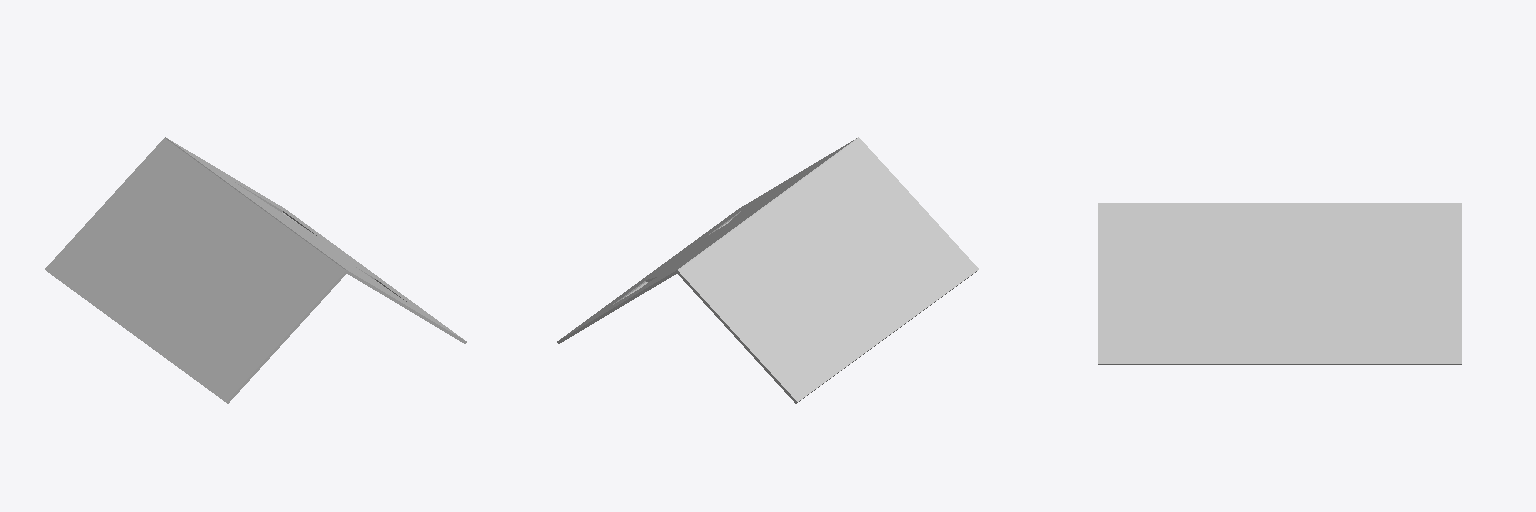
File: techo.OBJ
3 views of the same model, side by side, from view 1: azimuth 30°, elevation 25°; view 2: azimuth 150°, elevation 25°; view 3: azimuth 270°, elevation 25° (orthographic).
Parts seen in each view (by area): view 1: pCube116; view 2: pCube116; view 3: pCube116.
Part boxes in pixels (left/top/right/bottom): pCube116: left=45, top=137, right=466, bottom=403; pCube116: left=557, top=137, right=978, bottom=403; pCube116: left=1098, top=203, right=1461, bottom=364.
Bounding box in the file's own units: 18.29 × 7.63 × 23.89.